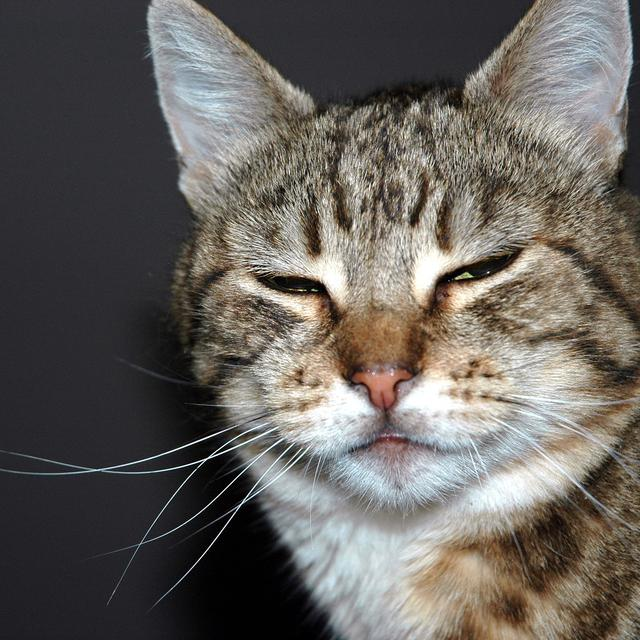animals: (159, 0, 605, 407)
